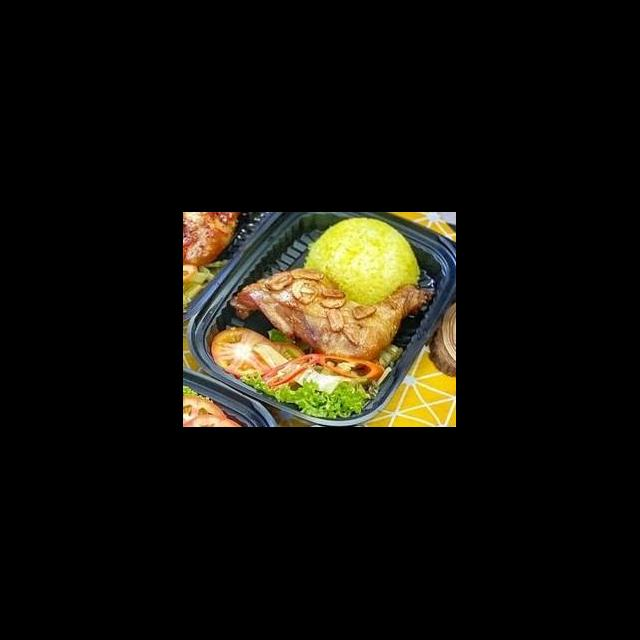com: (300, 214, 424, 310)
com ga: (185, 233, 435, 428)
thit ga: (228, 266, 440, 364)
